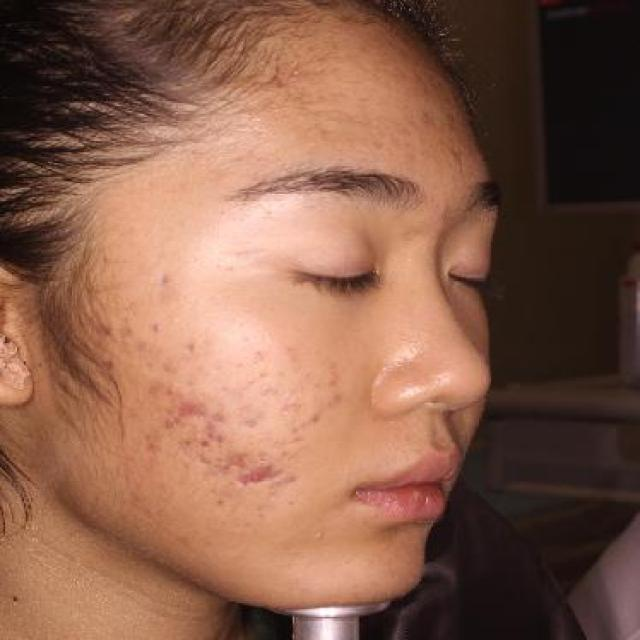blackheads: (161, 383, 186, 402)
papules: (147, 315, 163, 334)
pustules: (243, 464, 272, 490)
